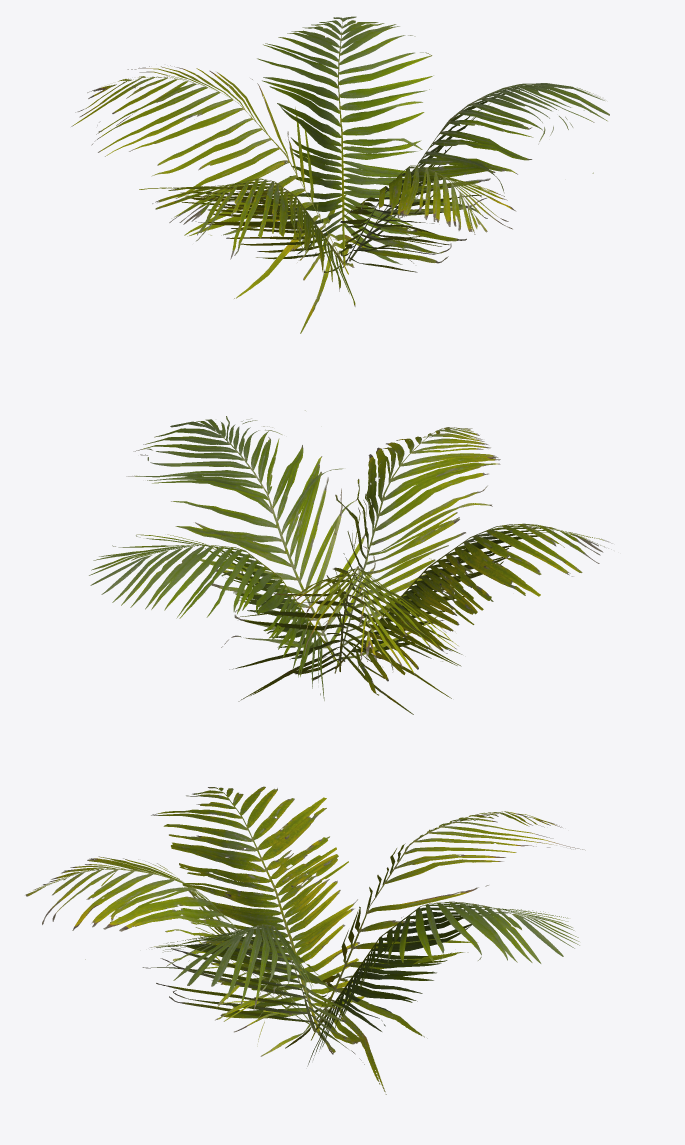
File: palm_bush_3.fbx
3 views of the same model, one above another, from view 1: azimuth 30°, elevation 25°; view 2: azimuth 150°, elevation 25°; view 3: azimuth 270°, elevation 25° (orthographic). The views are drawn at different scales.
Parts seen in each view (by area): view 1: Cylinder.001; view 2: Cylinder.001; view 3: Cylinder.001.
Boxes of the visible parts, bbox=[...] form: Cylinder.001: bbox=[71, 16, 609, 333]; Cylinder.001: bbox=[89, 410, 612, 714]; Cylinder.001: bbox=[25, 786, 585, 1094].
Size of the model in its own units: 230 by 88.03 by 208.
Materials: 1 (1 with a texture image).
